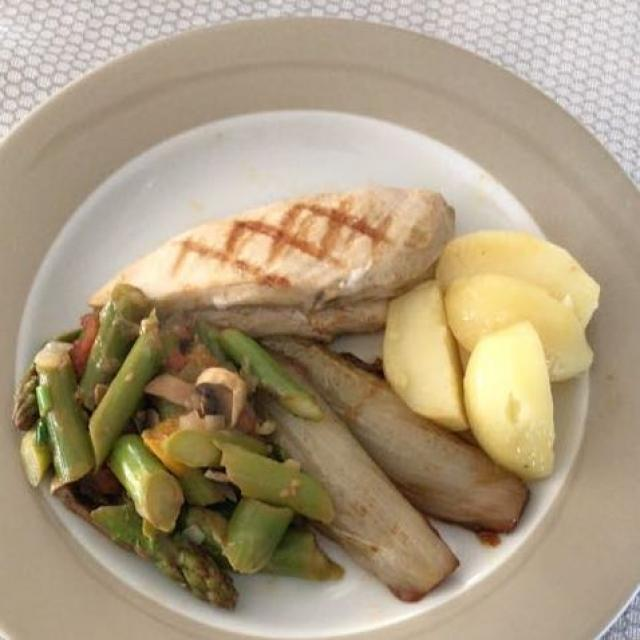asparagus: (14, 275, 358, 614)
chicken-breast: (82, 179, 462, 334)
potatoes: (378, 227, 606, 482)
